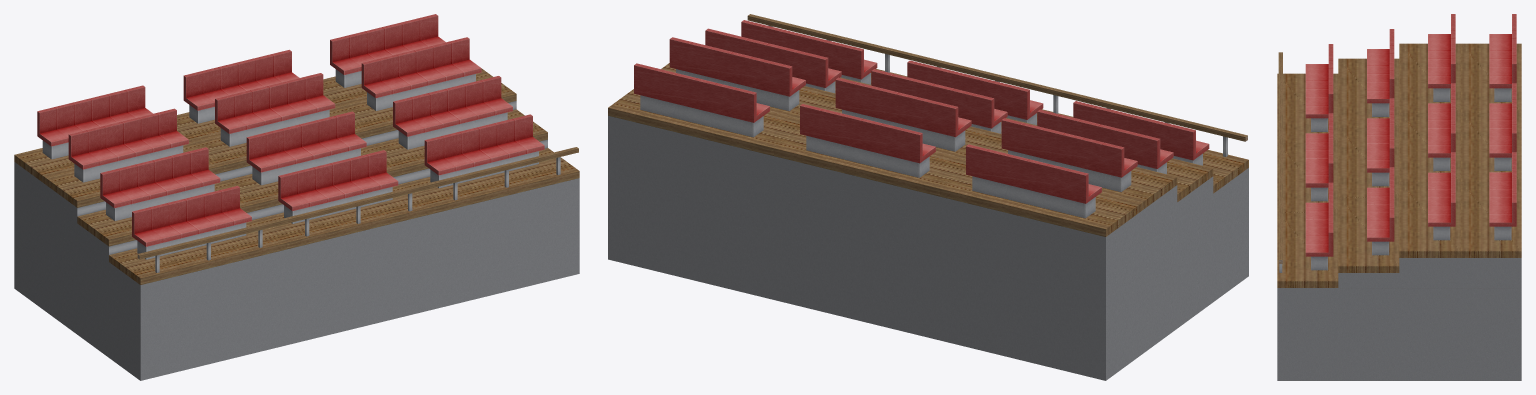
Rendered from Chair.FBX.
The picture shows the model from 3 angles, left to right: view 1: azimuth 30°, elevation 25°; view 2: azimuth 150°, elevation 25°; view 3: azimuth 270°, elevation 25°; orthographic projection. The views are drawn at different scales.
Visible parts, largest first — view 1: Chair; view 2: Chair; view 3: Chair.
Boxes of the visible parts, x1,y1,x2,y2 form: Chair: (14, 14, 579, 380); Chair: (608, 14, 1248, 380); Chair: (1277, 14, 1521, 380).
Bounding box in the file's own units: 698 × 265 × 348.
